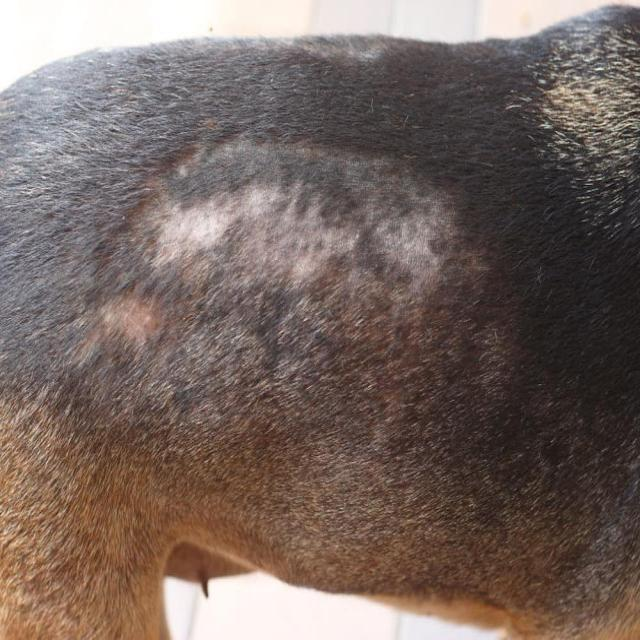allergic dermatitis: (126, 138, 462, 308)
